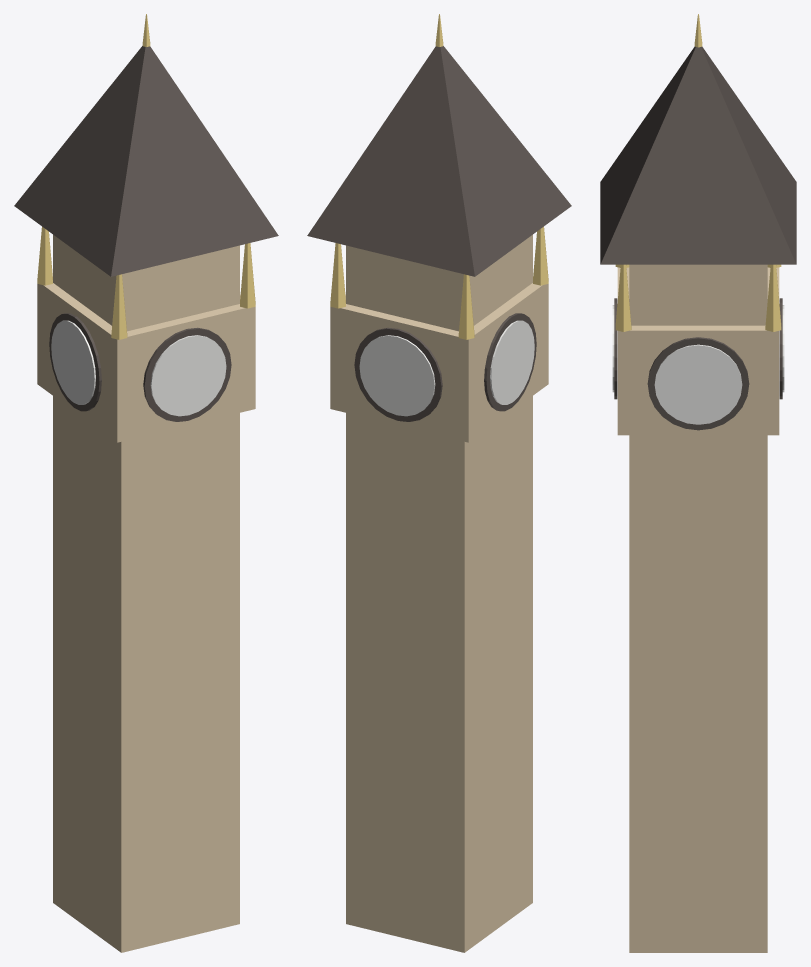
File: LM_BigBen.fbx
3 renders of one model, left to right at view 1: azimuth 30°, elevation 25°; view 2: azimuth 150°, elevation 25°; view 3: azimuth 270°, elevation 25°, orthographic.
Parts seen in each view (by area): view 1: LM_BigBen; view 2: LM_BigBen; view 3: LM_BigBen.
Part boxes in pixels (bbox=[...]): LM_BigBen: bbox=[14, 14, 278, 952]; LM_BigBen: bbox=[307, 14, 571, 952]; LM_BigBen: bbox=[600, 14, 796, 952].
Size of the model in its own units: 17 by 87 by 17.
